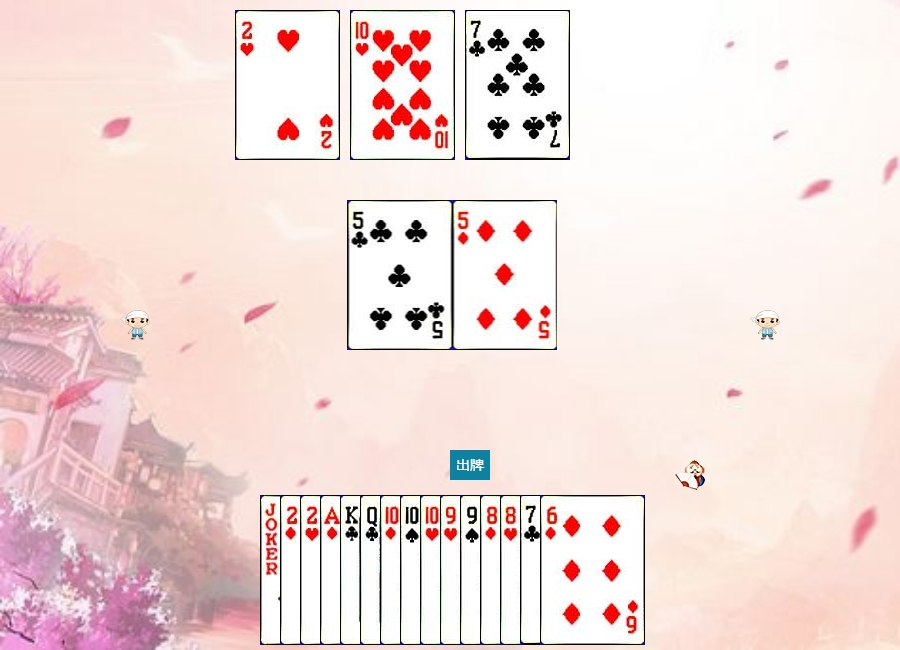10~1: (380, 495, 485, 645)
10~3: (350, 10, 455, 160), (420, 495, 525, 645)
10~4: (400, 495, 505, 645)
12~2: (360, 495, 465, 645)
13~2: (340, 495, 445, 645)
14~1: (320, 495, 425, 645)
15~1: (280, 495, 385, 645)
15~3: (235, 10, 340, 160), (300, 495, 405, 645)
18~4: (260, 495, 365, 645)
5~1: (453, 200, 558, 350)
5~2: (348, 200, 453, 350)
6~1: (540, 495, 645, 645)
7~2: (465, 10, 570, 160), (520, 495, 625, 645)
8~1: (480, 495, 585, 645)
8~3: (500, 495, 605, 645)
9~3: (440, 495, 545, 645)
9~4: (460, 495, 565, 645)
